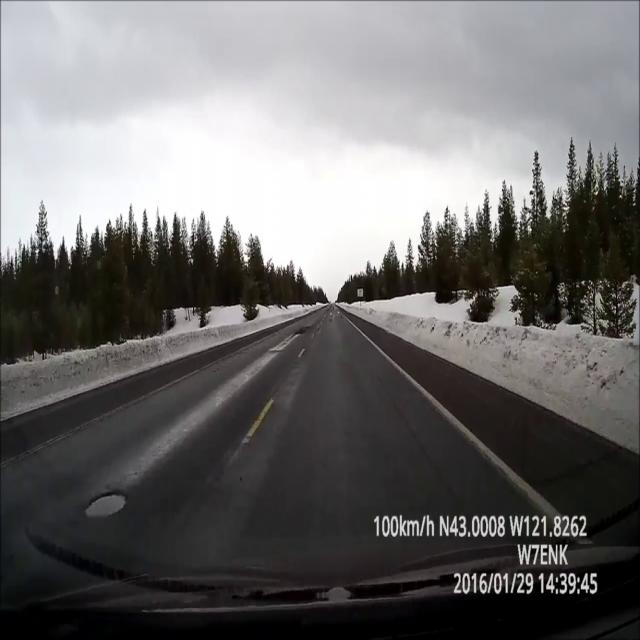Pothole: (81, 487, 132, 523), (295, 324, 310, 336)
